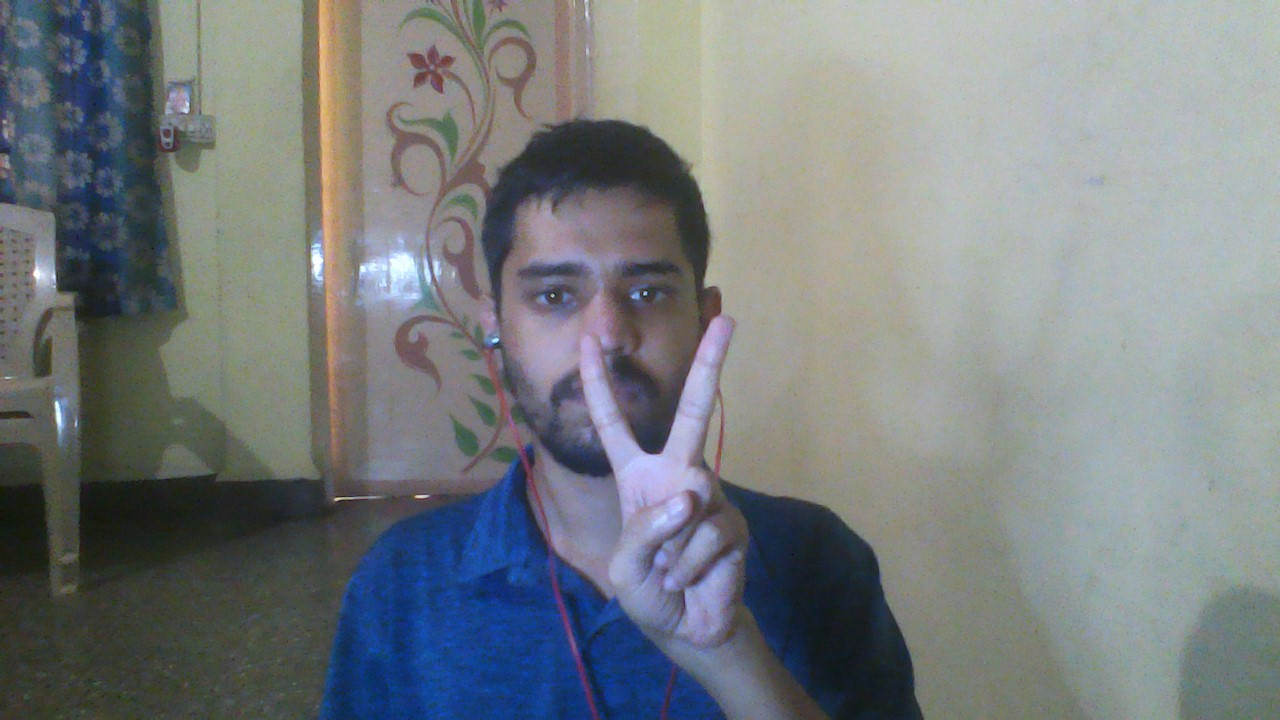v: (569, 297, 802, 720)
